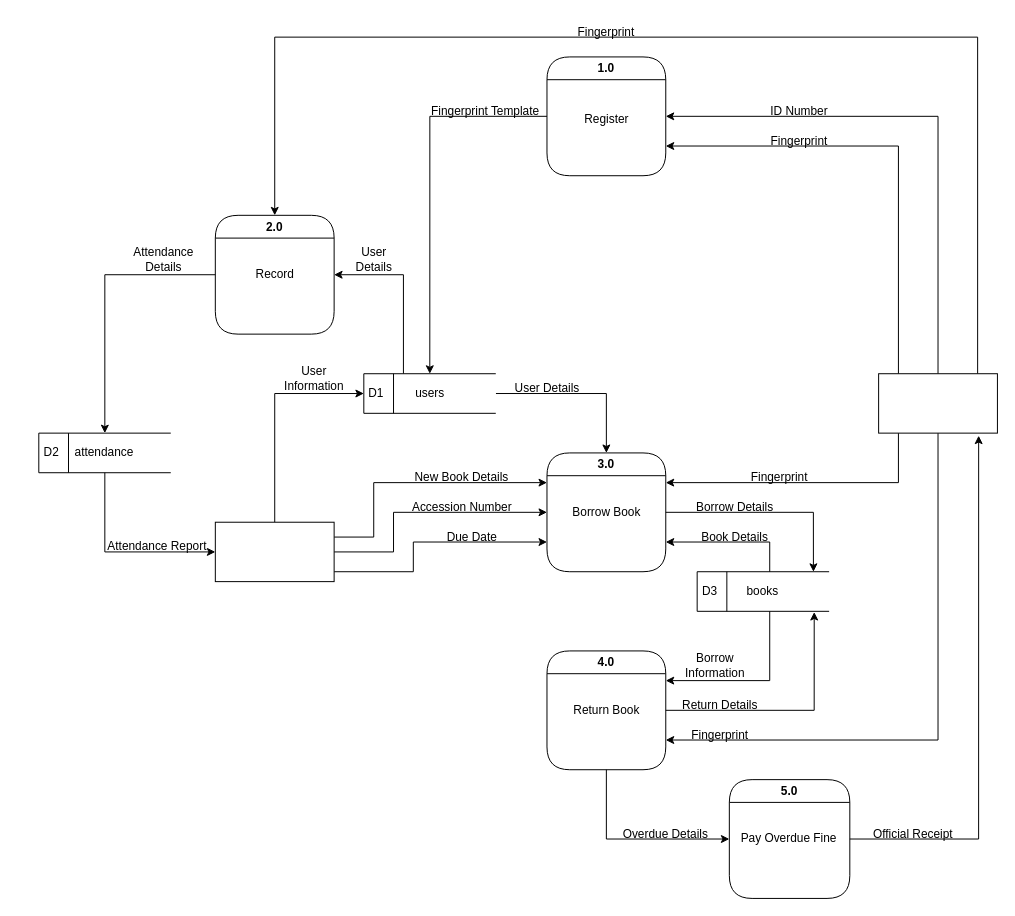
Image size: 1015x916. Some labels were removed from this diagram. The centre of each missing label's shape, as x and y in pixels:
ADMIN: (x=274, y=551)
USER: (x=937, y=403)
